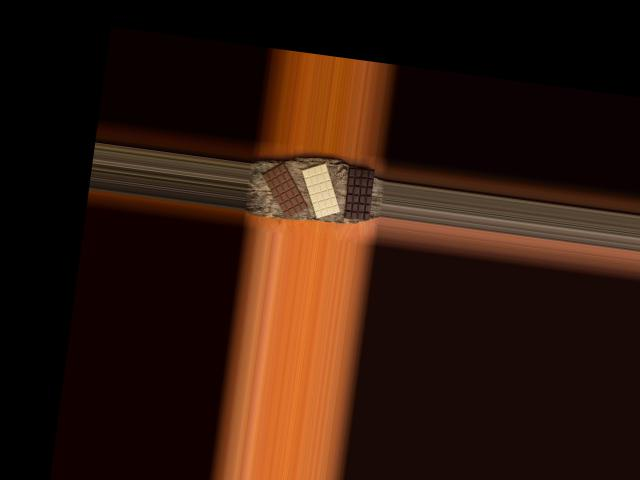chocolate: (343, 165, 376, 221)
